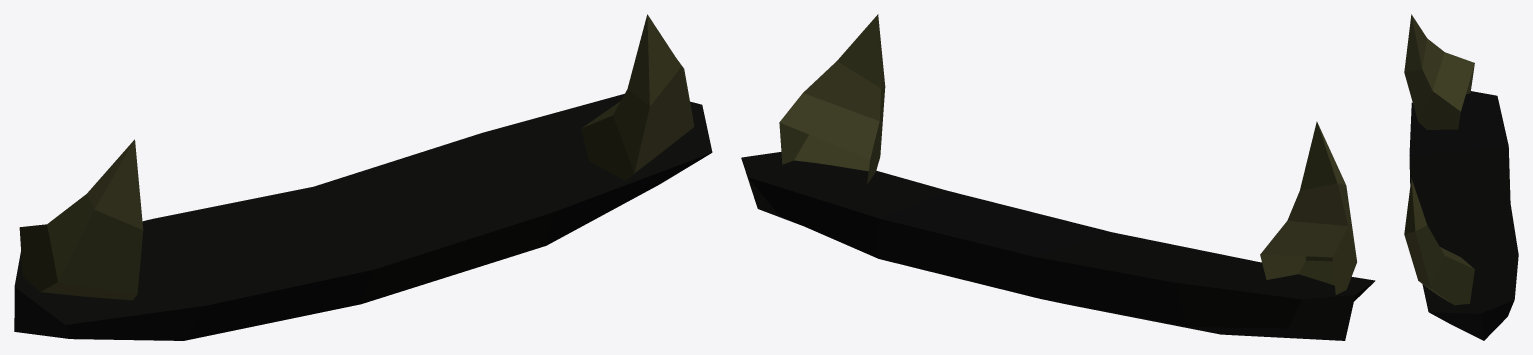
Rendered from Tusks.FBX.
The picture shows the model from 3 angles, left to right: view 1: azimuth 30°, elevation 25°; view 2: azimuth 150°, elevation 25°; view 3: azimuth 270°, elevation 25°; orthographic projection. The views are drawn at different scales.
Parts seen in each view (by area): view 1: Object002; view 2: Object002; view 3: Object002.
Boxes of the visible parts, box(x1,y1,x2,y2) form: Object002: box(14, 14, 712, 340); Object002: box(741, 14, 1375, 340); Object002: box(1404, 14, 1518, 340).
Size of the model in its own units: 16.2 by 5.33 by 3.49.
